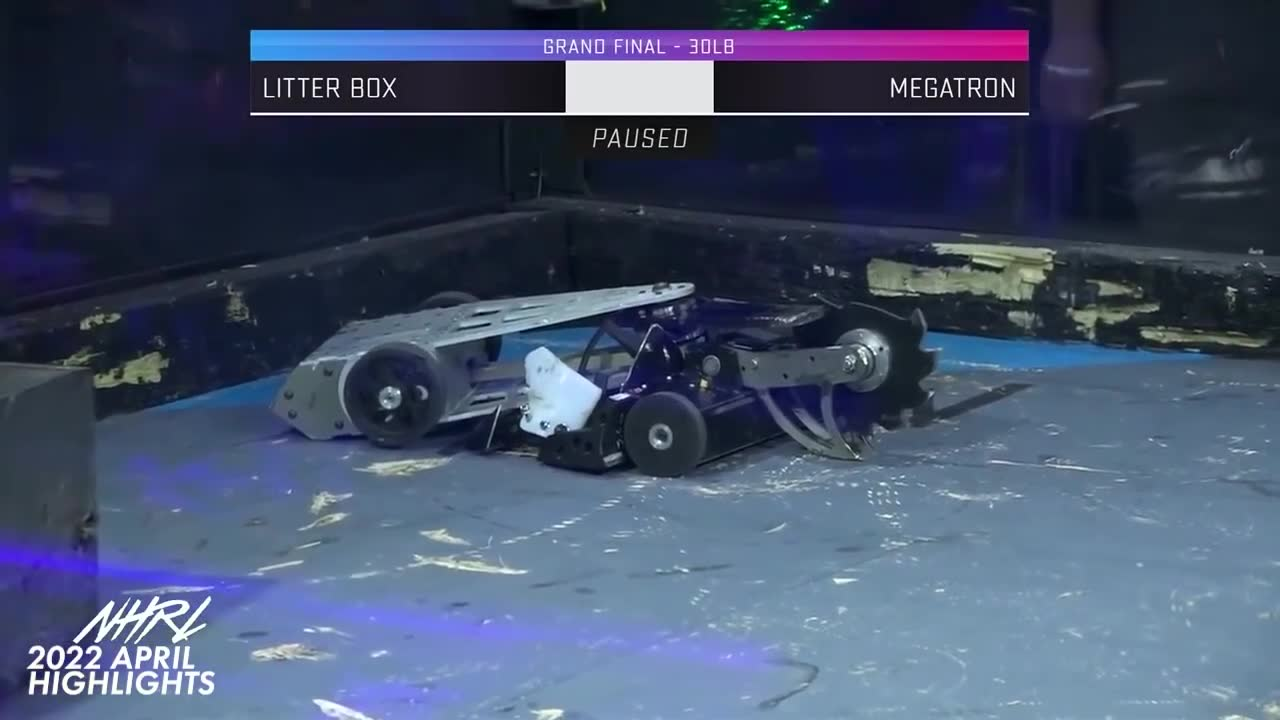combatbot: (565, 209, 932, 479), (272, 279, 704, 447)
housebot: (0, 349, 109, 696)
